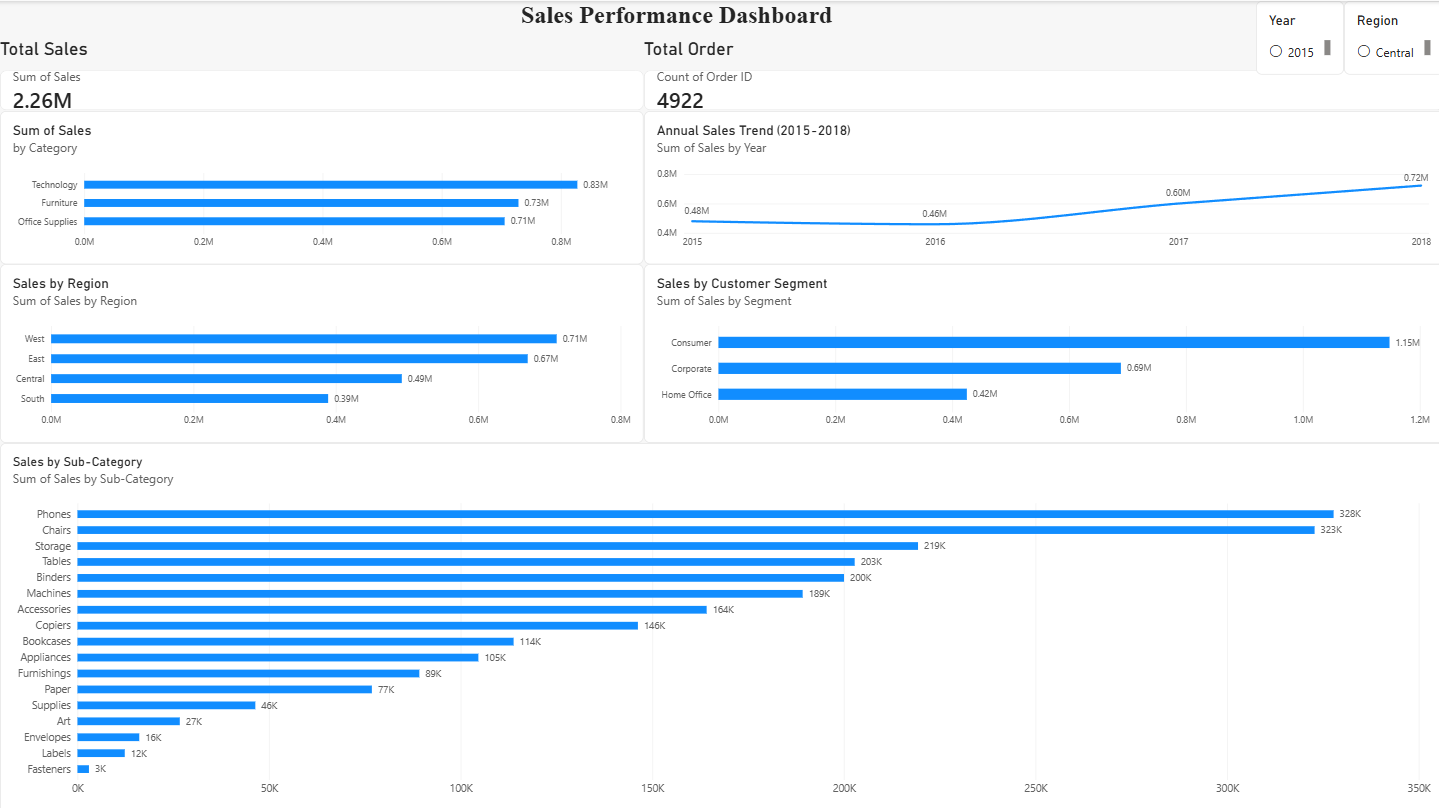

The dashboard page shown, as its layout file describes it:
{"tool":"powerbi","page":{"name":"Page 1","canvas":[1920,1080],"ordinal":0},"visuals":[{"type":"cardVisual","title":"Total Sales","fields":{"Data":["Sum(train.Sales)"]},"box":[0,49.6,856.4,96.3],"z":0},{"type":"cardVisual","title":"Total Order","fields":{"Data":["Count(train.Order ID)"]},"box":[856.4,49.6,1063.6,96.3],"z":1},{"type":"clusteredBarChart","fields":{"Category":["train.Category"],"Y":["Sum(train.Sales)"]},"box":[0,145.9,856.4,204.3],"z":2},{"type":"lineChart","title":"Annual Sales Trend (2015-2018)","fields":{"Category":["train.Order Date.Variation.Date Hierarchy.Year"],"Y":["Sum(train.Sales)"]},"box":[856.4,145.9,1063.6,204.3],"z":3},{"type":"clusteredBarChart","title":"Sales by Region","fields":{"Category":["train.Region"],"Y":["Sum(train.Sales)"]},"box":[0,350.2,856.4,237.8],"z":4},{"type":"clusteredBarChart","title":"Sales by Customer Segment","fields":{"Category":["train.Segment"],"Y":["Sum(train.Sales)"]},"box":[856.4,350.2,1063.6,237.8],"z":5},{"type":"clusteredBarChart","title":"Sales by Sub-Category","fields":{"Category":["train.Sub-Category"],"Y":["Sum(train.Sales)"]},"box":[0,588,1920,491.7],"z":6},{"type":"textbox","box":[0,0,1800.4,64.2],"z":7},{"type":"listSlicer","fields":{"Values":["train.Order Date.Variation.Date Hierarchy.Year"]},"box":[1670.5,0,116.7,97.8],"z":8},{"type":"listSlicer","fields":{"Values":["train.Region"]},"box":[1787.2,0,132.8,97.8],"z":9}]}

Visuals, with their boxes in screenshot pixels (x1, y1, x2, y2), scaled from the page's 1920x1080 canvas onto the 1439x808 screenshot:
"Total Sales" cardVisual: (0, 37, 642, 109)
"Total Order" cardVisual: (642, 37, 1438, 109)
clusteredBarChart - train.Category x Sum(train.Sales): (0, 109, 642, 262)
"Annual Sales Trend (2015-2018)" lineChart: (642, 109, 1438, 262)
"Sales by Region" clusteredBarChart: (0, 262, 642, 440)
"Sales by Customer Segment" clusteredBarChart: (642, 262, 1438, 440)
"Sales by Sub-Category" clusteredBarChart: (0, 440, 1438, 807)
textbox: (0, 0, 1349, 48)
listSlicer - train.Order Date.Variation.Date Hierarchy.Year: (1252, 0, 1339, 73)
listSlicer - train.Region: (1339, 0, 1438, 73)
